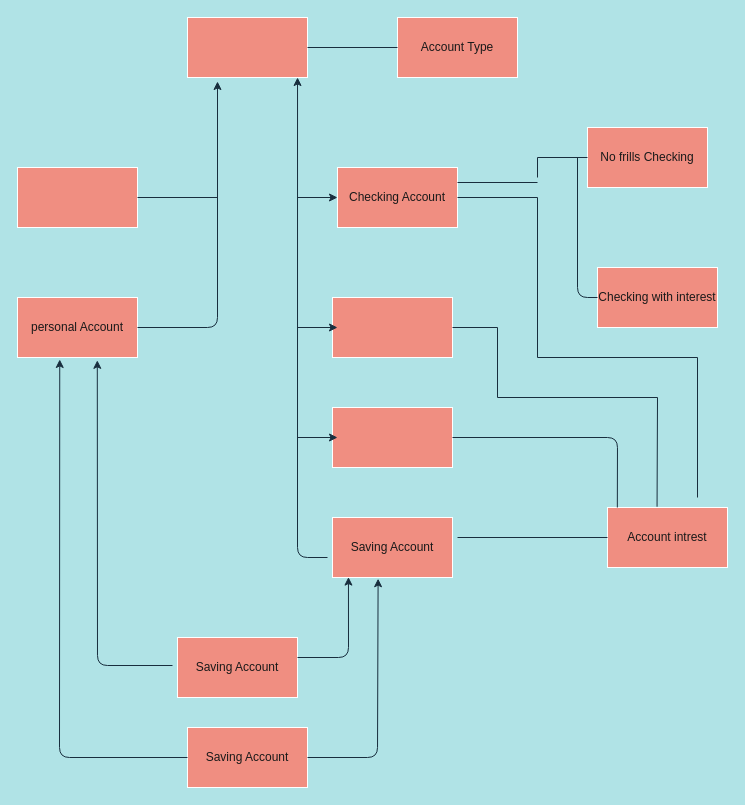
Image size: 745x805. Some labels were removed from this diagram. Each missing label, with the centre of its shape:
"Bank Account" belongs at point (247, 47).
"Bussiness Account" belongs at point (77, 197).
"Certificates of deposit" belongs at point (392, 437).
"Money Market Account" belongs at point (392, 327).
